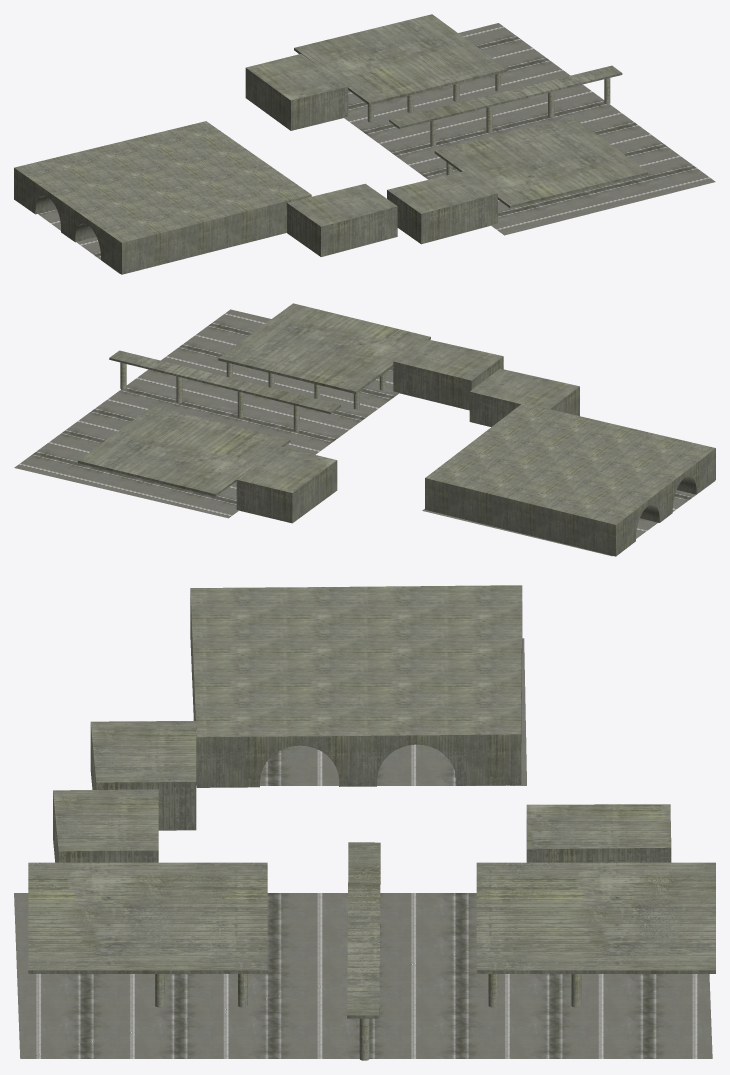
The picture shows the model from 3 angles, top to bottom: view 1: azimuth 30°, elevation 25°; view 2: azimuth 150°, elevation 25°; view 3: azimuth 270°, elevation 25°; orthographic projection. The views are drawn at different scales.
Parts seen in each view (by area): view 1: SM_HK_02_09; view 2: SM_HK_02_09; view 3: SM_HK_02_09.
Part boxes in pixels (x1,y1,x2,y2): SM_HK_02_09: (14, 14, 715, 274); SM_HK_02_09: (14, 303, 715, 556); SM_HK_02_09: (14, 585, 715, 1060).
Bounding box in the file's own units: 15236 × 850 × 10507.
